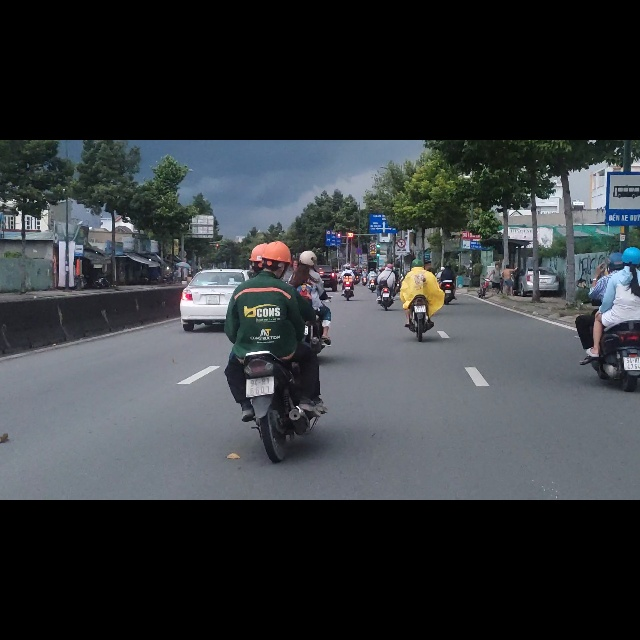bien_cam: (606, 55, 640, 151), (326, 167, 341, 188), (398, 177, 406, 192)
